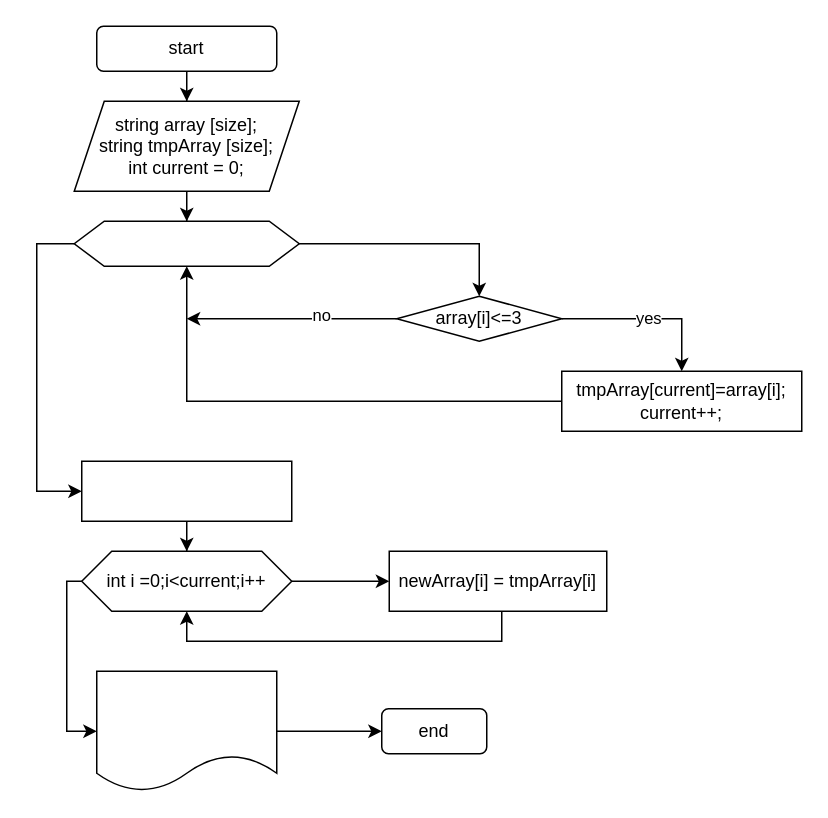
Some shapes in this 828 by 818 pixel diagram are drawn without their labels. Each missing label, with the centre of its shape:
"int i = 0;i<array.size;i++" belongs at point 186,243.
"newArray[current]" belongs at point 186,730.
"string newArray{current]" belongs at point 186,490.
